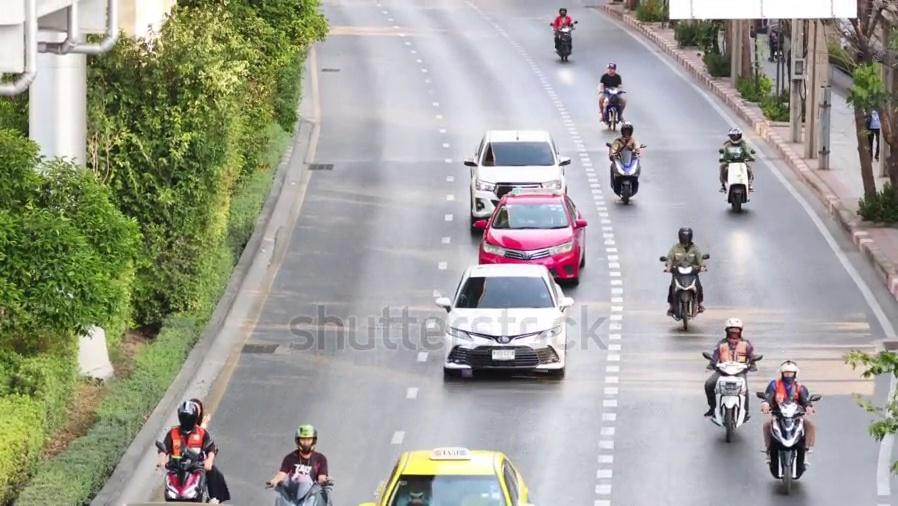person: (864, 109, 881, 161)
rider: (154, 398, 228, 504), (702, 316, 756, 421), (758, 359, 815, 458), (268, 423, 334, 505), (661, 226, 706, 315), (717, 126, 755, 192), (606, 121, 643, 186), (596, 62, 626, 123), (550, 7, 575, 52)
with_helmate: (174, 399, 197, 433), (293, 423, 318, 452), (776, 357, 801, 386), (724, 124, 747, 146), (676, 222, 695, 247), (721, 321, 743, 341), (614, 119, 636, 139), (608, 65, 621, 76)
